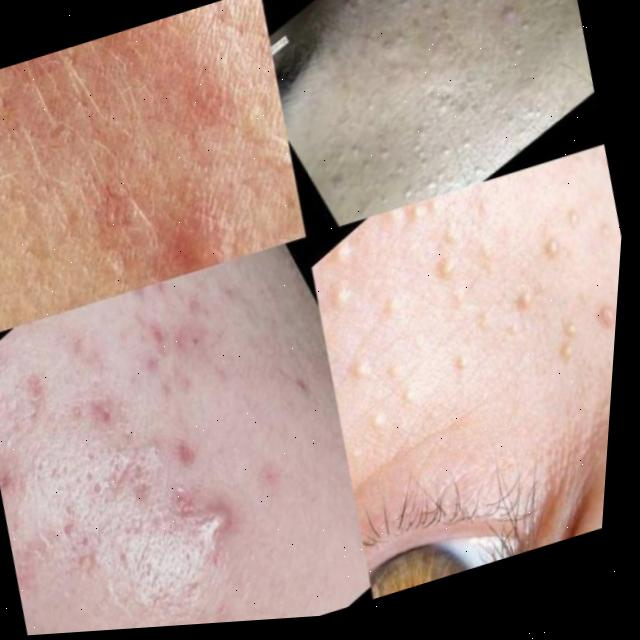Acne: (334, 180, 625, 445), (0, 333, 264, 624), (278, 0, 549, 238), (0, 56, 224, 299)
